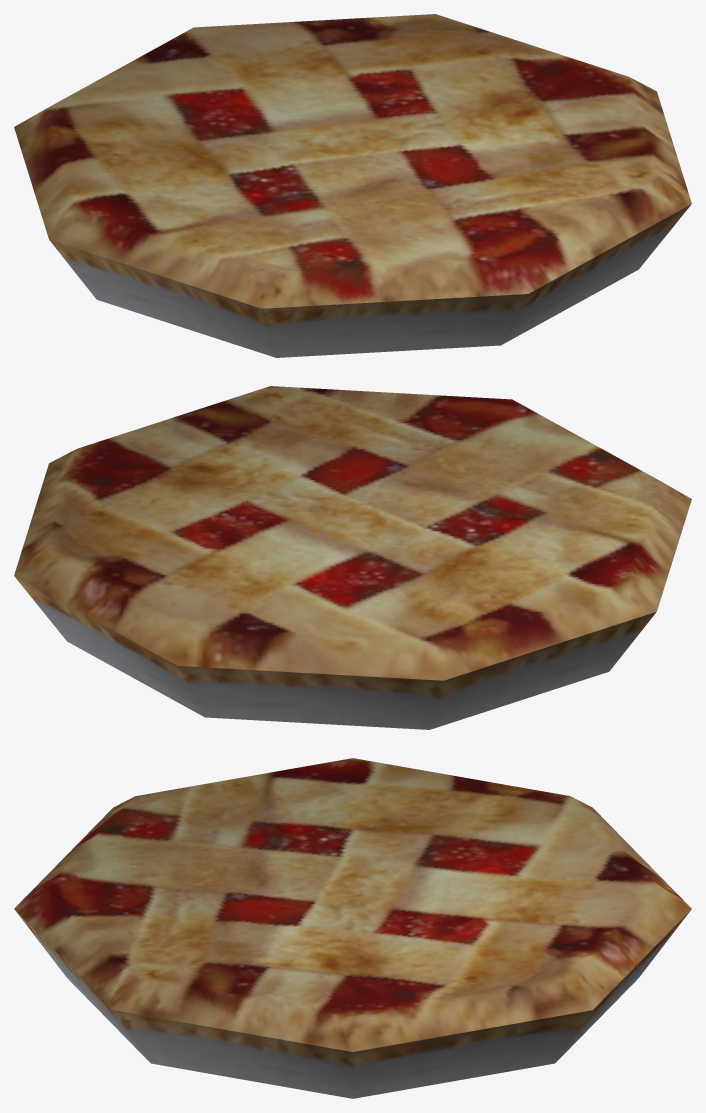
File: Cake_01-col.glb
The picture shows the model from 3 angles, top to bottom: view 1: azimuth 30°, elevation 25°; view 2: azimuth 150°, elevation 25°; view 3: azimuth 270°, elevation 25°; orthographic projection. The views are drawn at different scales.
Visible parts, largest first — view 1: Cake_01-col; view 2: Cake_01-col; view 3: Cake_01-col.
Part boxes in pixels (box(x1,y1,x2,y2)): Cake_01-col: box(14, 14, 691, 357); Cake_01-col: box(14, 386, 691, 729); Cake_01-col: box(14, 758, 691, 1098).
Size of the model in its own units: 0.3862 by 0.0565 by 0.3862.
1 material, 1 textured.
